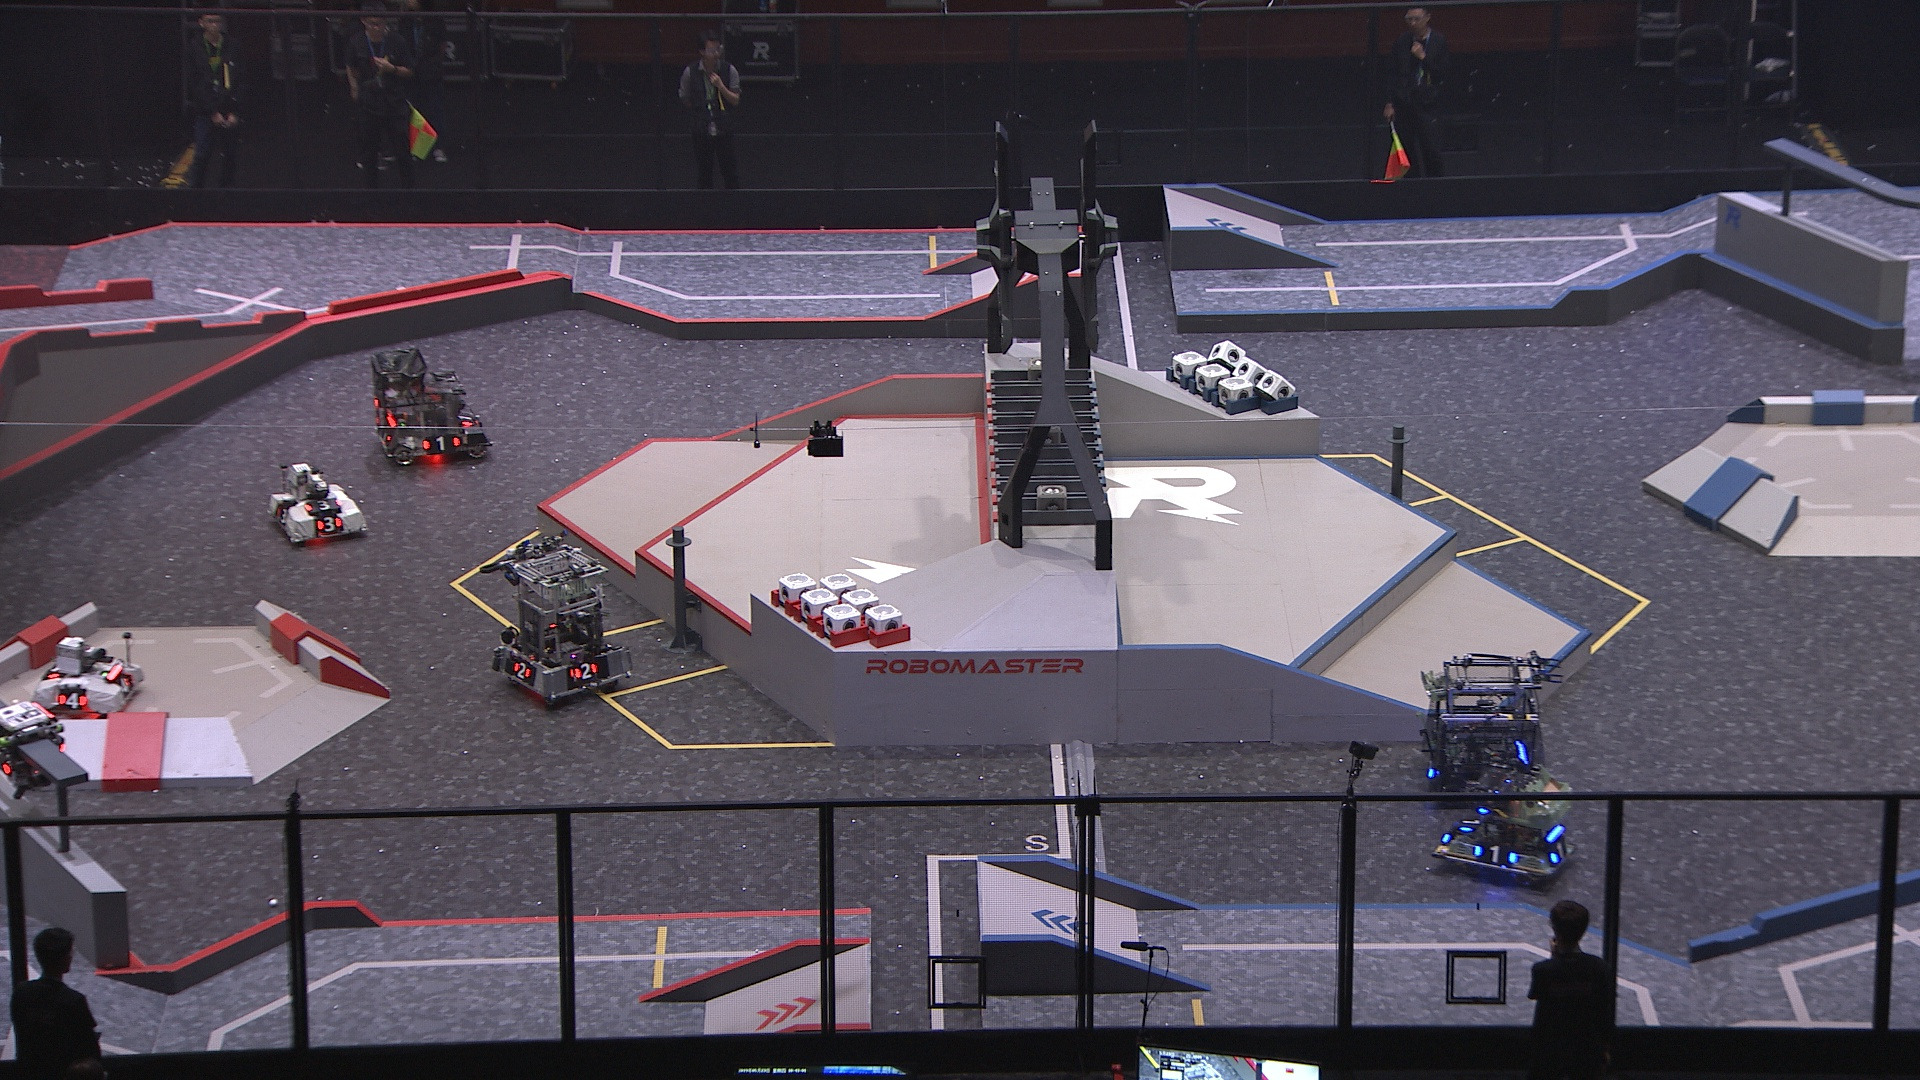armor: (1472, 839, 1520, 870), (418, 433, 462, 455), (301, 493, 343, 514), (57, 690, 91, 712), (313, 512, 345, 534), (1545, 835, 1572, 862), (111, 671, 136, 698), (574, 659, 600, 683), (1453, 815, 1480, 836), (509, 657, 531, 680), (373, 425, 394, 447), (452, 410, 472, 433), (273, 502, 291, 526)
car: (487, 538, 638, 705), (1419, 651, 1549, 808), (1432, 760, 1578, 887), (365, 344, 495, 469), (29, 626, 145, 723), (262, 458, 375, 551)
